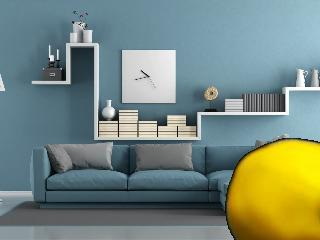lemon: (227, 138, 320, 238)
